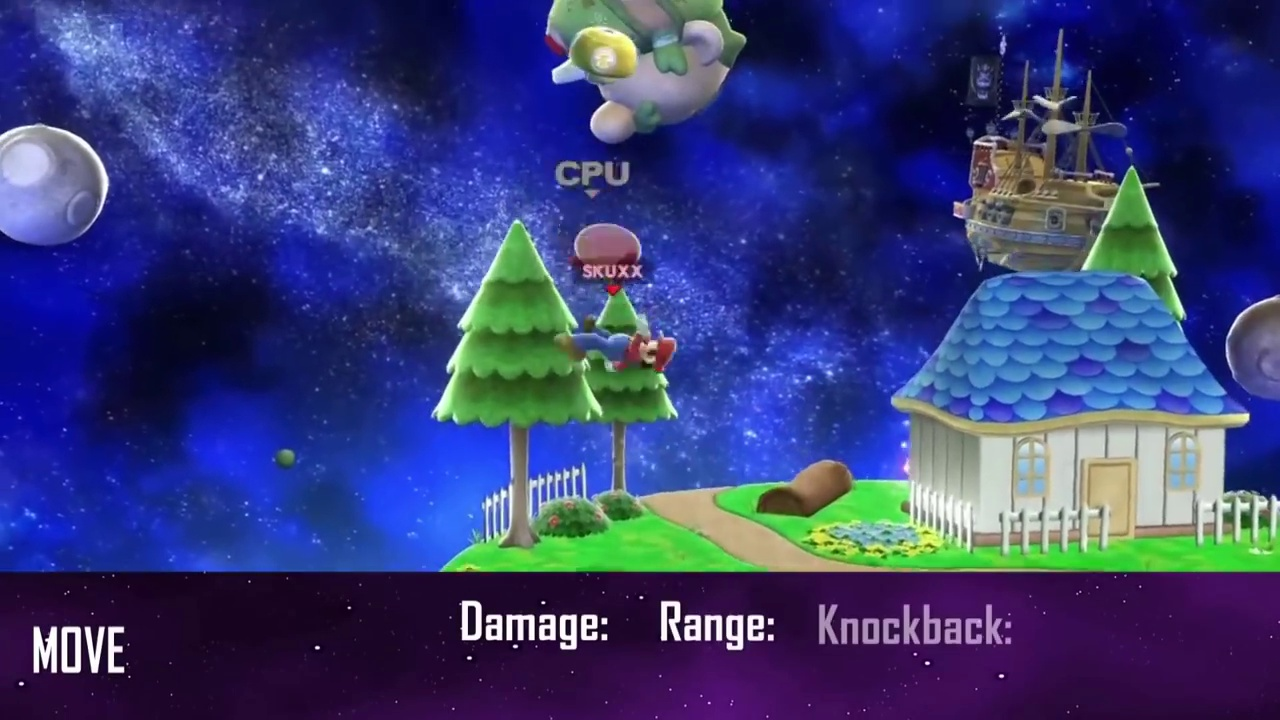Mario: (555, 314, 674, 380)
